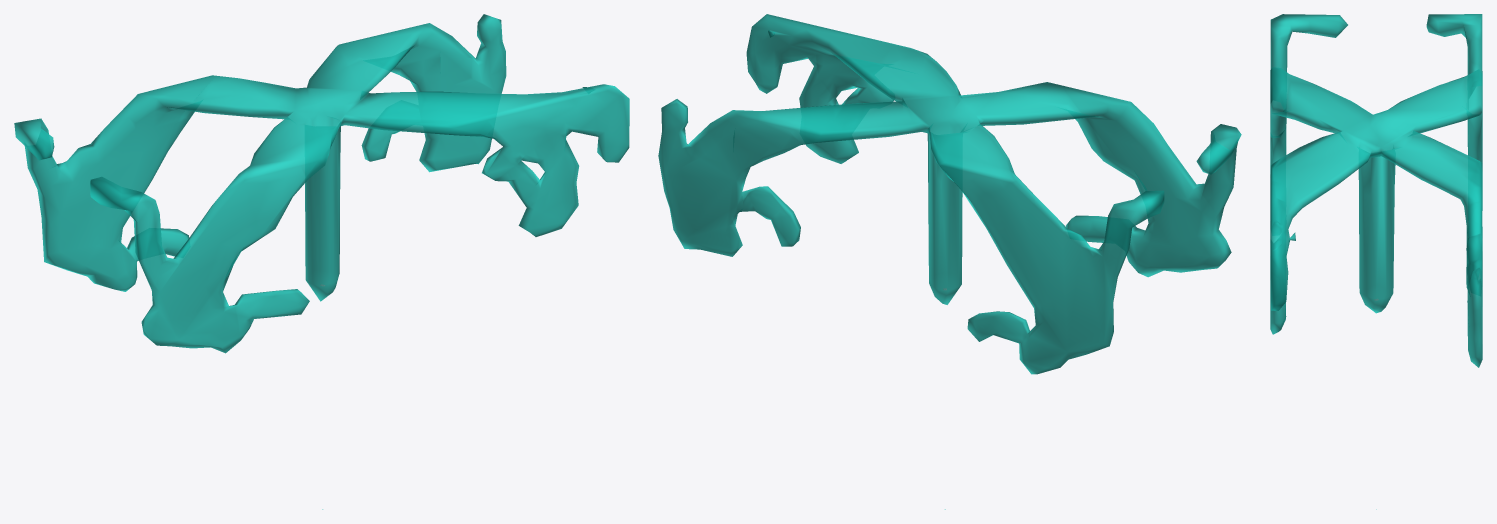
3 views of the same model, side by side, from view 1: azimuth 30°, elevation 25°; view 2: azimuth 150°, elevation 25°; view 3: azimuth 270°, elevation 25° (orthographic). The views are drawn at different scales.
Visible parts, largest first — view 1: Liquid_Domain; view 2: Liquid_Domain; view 3: Liquid_Domain.
Boxes of the visible parts, x1,y1,x2,y2 form: Liquid_Domain: (14,14,629,353); Liquid_Domain: (658,14,1241,374); Liquid_Domain: (1270,14,1482,367).
Size of the model in its own units: 883 by 683 by 344.
